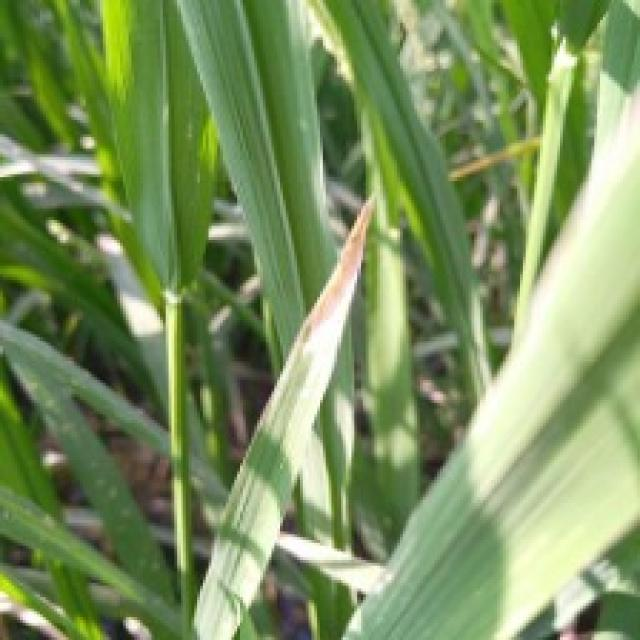Rice___Rice_Blast: (191, 192, 380, 637)
